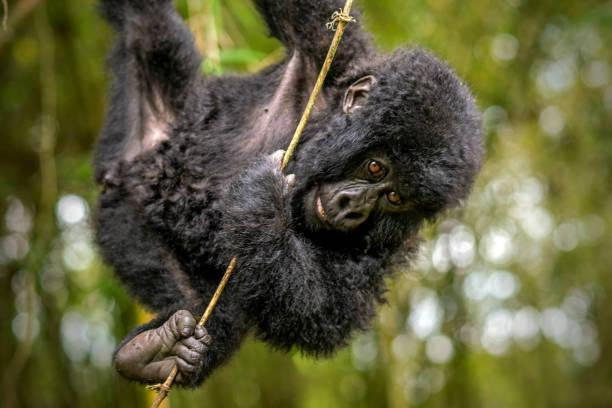goriile_montagne: (59, 0, 565, 408)
